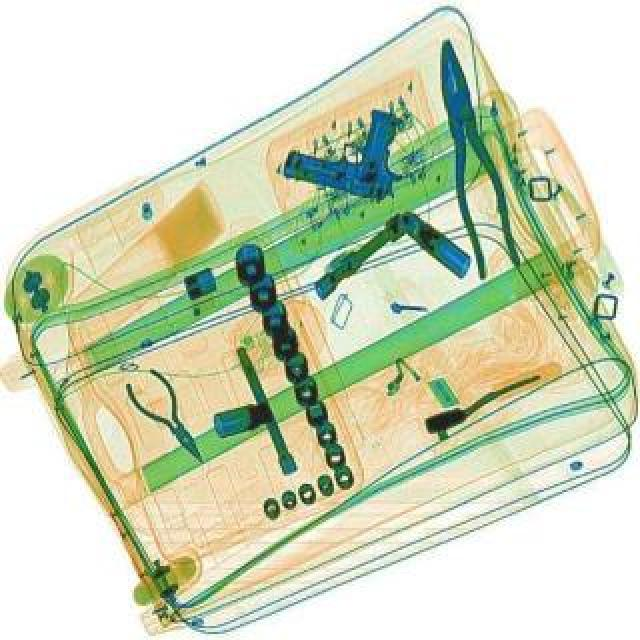gun: (278, 86, 420, 206)
wrench: (420, 34, 524, 278), (120, 364, 220, 474)
